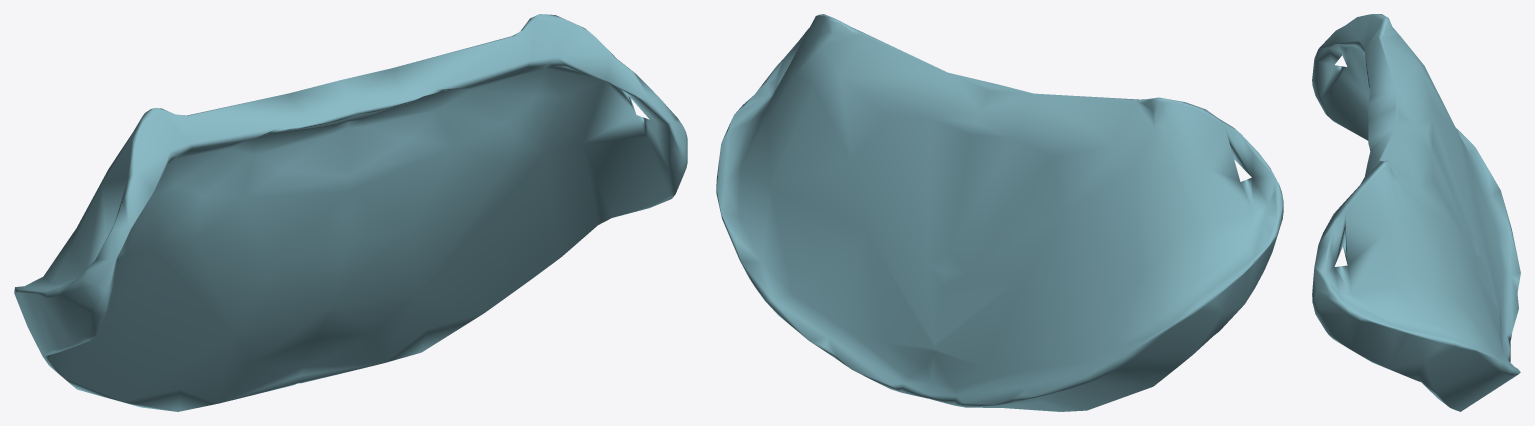
3 views of the same model, side by side, from view 1: azimuth 30°, elevation 25°; view 2: azimuth 150°, elevation 25°; view 3: azimuth 270°, elevation 25° (orthographic). The views are drawn at different scales.
Parts seen in each view (by area): view 1: 颈6—颈7椎间盘; view 2: 颈6—颈7椎间盘; view 3: 颈6—颈7椎间盘.
Boxes of the visible parts, x1,y1,x2,y2 form: 颈6—颈7椎间盘: [14, 14, 687, 411]; 颈6—颈7椎间盘: [716, 14, 1283, 411]; 颈6—颈7椎间盘: [1312, 14, 1520, 411].
Bounding box in the file's own units: 0.0449 × 0.0244 × 0.0167.
